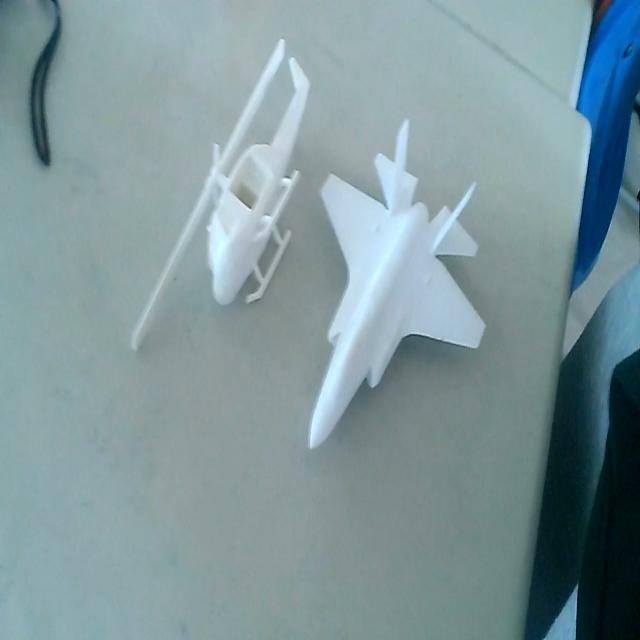Helicopter: (128, 31, 312, 350)
Jet: (307, 118, 497, 452)
